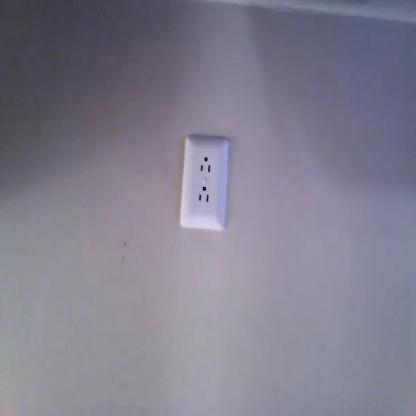OUTLET: (178, 135, 230, 229)
